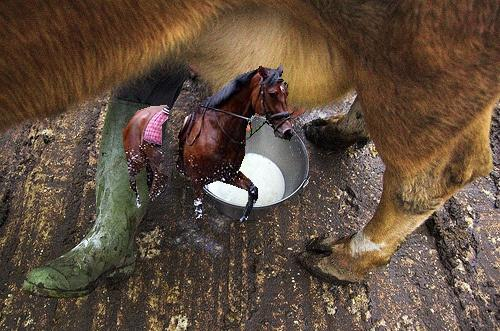tampered: (124, 65, 293, 222)
